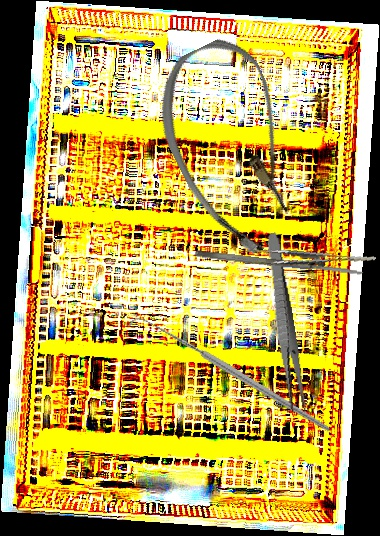Cannula: (136, 28, 332, 267)
Dressing Forceps: (260, 231, 309, 416)
Hook Surgical: (128, 261, 332, 491)
Spatula Surgical: (194, 248, 365, 279)
Tissue Forceps: (243, 236, 376, 284)
